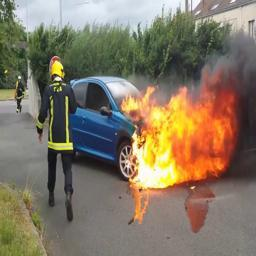fire: (121, 69, 240, 188)
